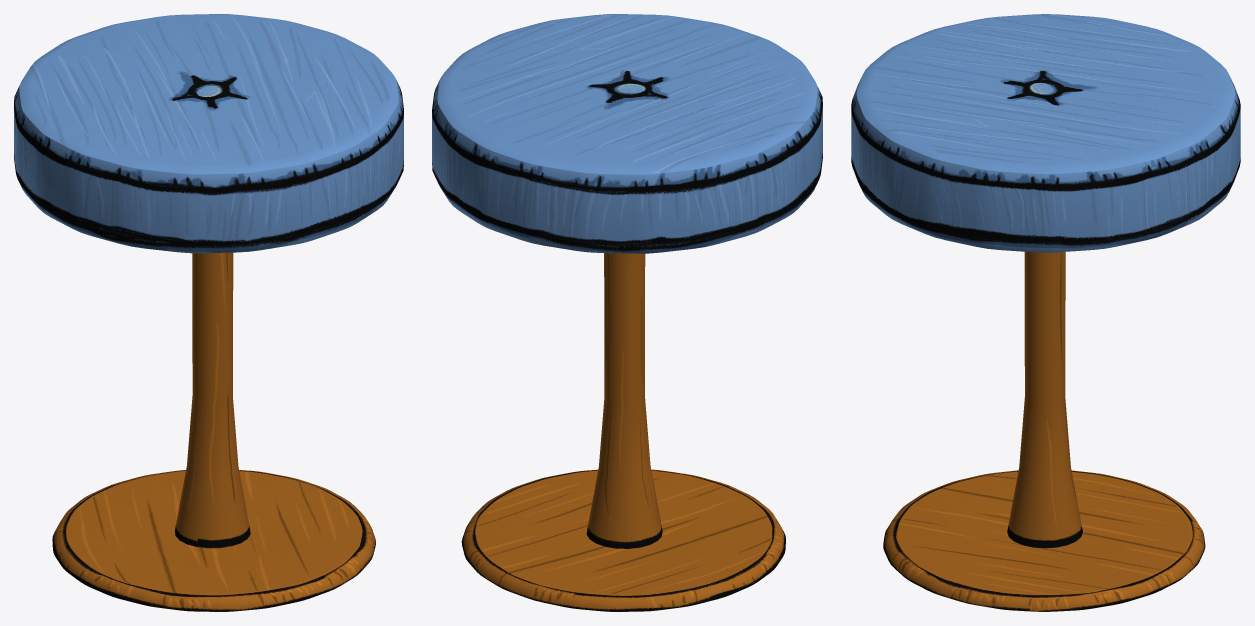
Rendered from Greenhouse_Stool_Past.fbx.
3 renders of one model, left to right at view 1: azimuth 30°, elevation 25°; view 2: azimuth 150°, elevation 25°; view 3: azimuth 270°, elevation 25°, orthographic.
Visible parts, largest first — view 1: pCylinder5, pasted__pCylinder4, pasted__pCylinder3; view 2: pCylinder5, pasted__pCylinder4, pasted__pCylinder3; view 3: pCylinder5, pasted__pCylinder4, pasted__pCylinder3.
Part boxes in pixels (left/top/right/bottom): pCylinder5: left=14, top=14, right=403, bottom=253; pasted__pCylinder4: left=52, top=470, right=375, bottom=611; pasted__pCylinder3: left=175, top=252, right=250, bottom=548; pCylinder5: left=432, top=14, right=822, bottom=253; pasted__pCylinder4: left=461, top=469, right=785, bottom=611; pasted__pCylinder3: left=586, top=253, right=662, bottom=548; pCylinder5: left=851, top=14, right=1240, bottom=252; pasted__pCylinder4: left=883, top=470, right=1205, bottom=611; pasted__pCylinder3: left=1007, top=251, right=1082, bottom=548.
Bounding box in the file's own units: 1.99 × 2.56 × 1.99.
Materials: 3 (3 with a texture image).
